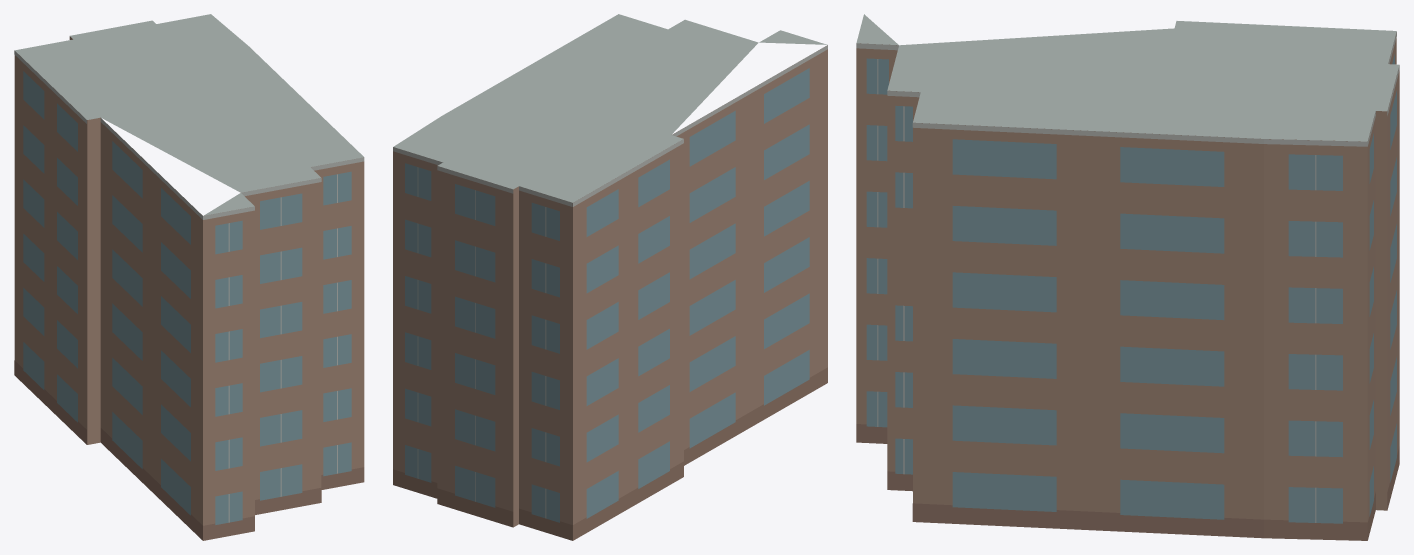
The model's file is survey-upis-32577594.glb.
The picture shows the model from 3 angles, left to right: view 1: azimuth 30°, elevation 25°; view 2: azimuth 150°, elevation 25°; view 3: azimuth 270°, elevation 25°; orthographic projection. The views are drawn at different scales.
Visible parts, largest first — view 1: survey-upis-32577594.tmp; view 2: survey-upis-32577594.tmp; view 3: survey-upis-32577594.tmp.
Part boxes in pixels (<box>): survey-upis-32577594.tmp: <box>14,14,364,540</box>; survey-upis-32577594.tmp: <box>393,14,827,540</box>; survey-upis-32577594.tmp: <box>856,14,1399,540</box>.
Bounding box in the file's own units: 13.04 × 19 × 23.44.
